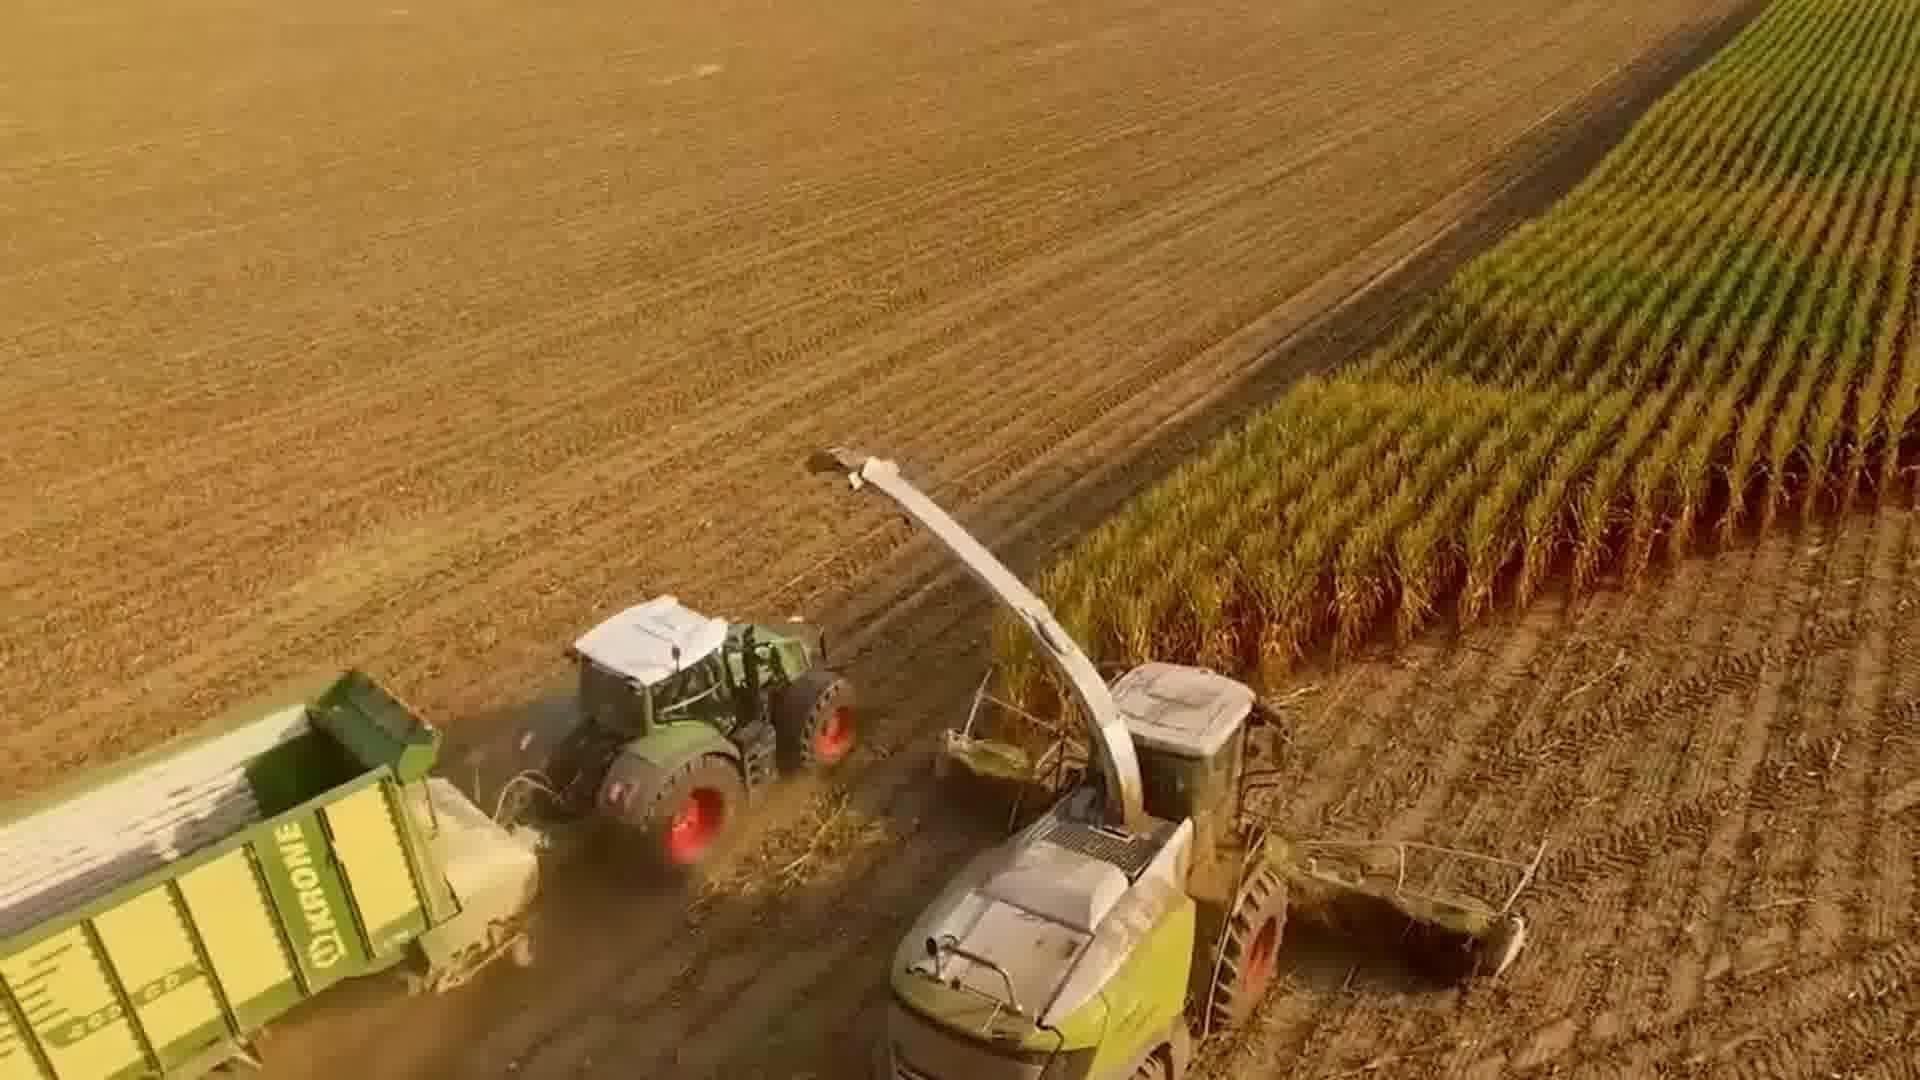combine harvester: (803, 442, 1553, 1080)
tractor: (514, 588, 868, 889)
trailer: (0, 661, 550, 1080)
